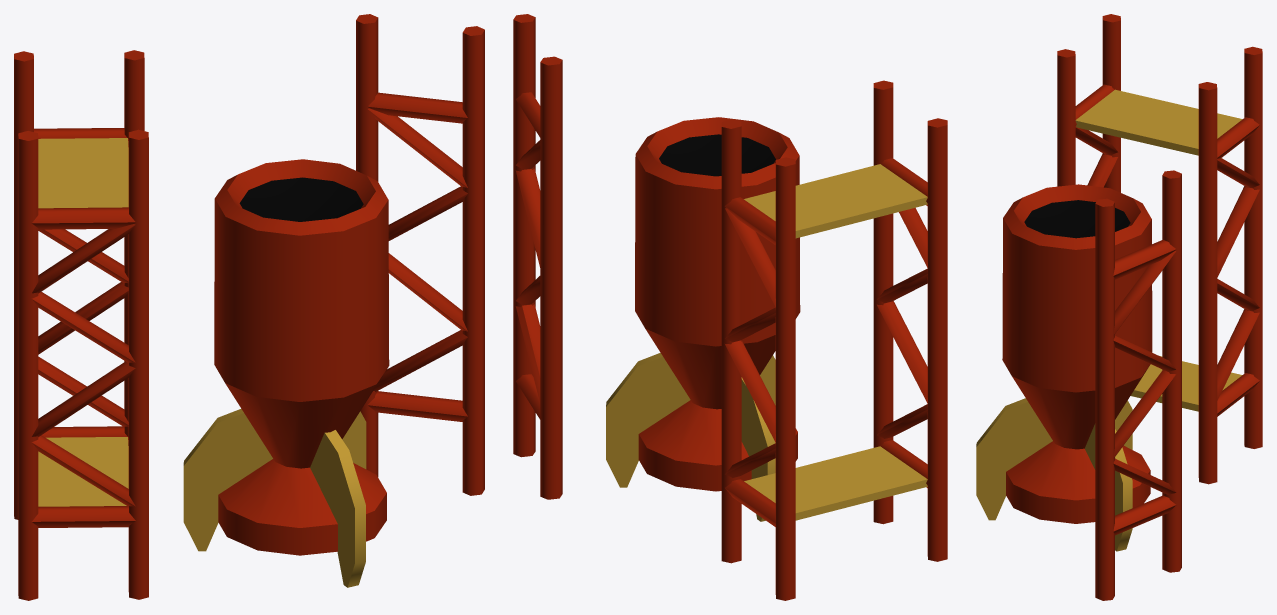
The model's file is Rocket Factory Inside Solid.fbx.
The picture shows the model from 3 angles, left to right: view 1: azimuth 30°, elevation 25°; view 2: azimuth 150°, elevation 25°; view 3: azimuth 270°, elevation 25°; orthographic projection. The views are drawn at different scales.
Visible parts, largest first — view 1: Rocket Factory Inside; view 2: Rocket Factory Inside; view 3: Rocket Factory Inside.
Part boxes in pixels (bbox=[...]): Rocket Factory Inside: bbox=[14, 14, 484, 600]; Rocket Factory Inside: bbox=[513, 14, 947, 600]; Rocket Factory Inside: bbox=[976, 14, 1262, 600].
Size of the model in its own units: 525 by 500 by 329.
